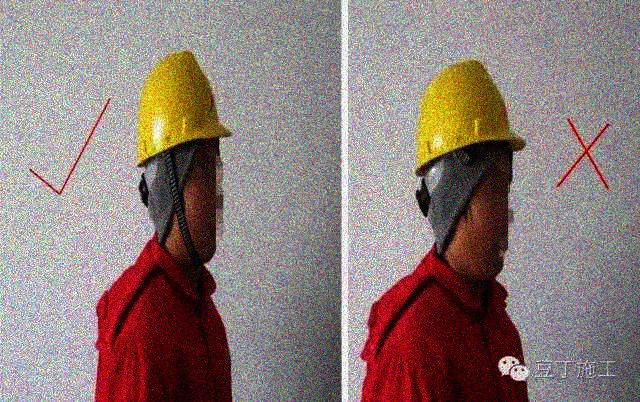helmet: (410, 57, 526, 278), (133, 49, 228, 265)
